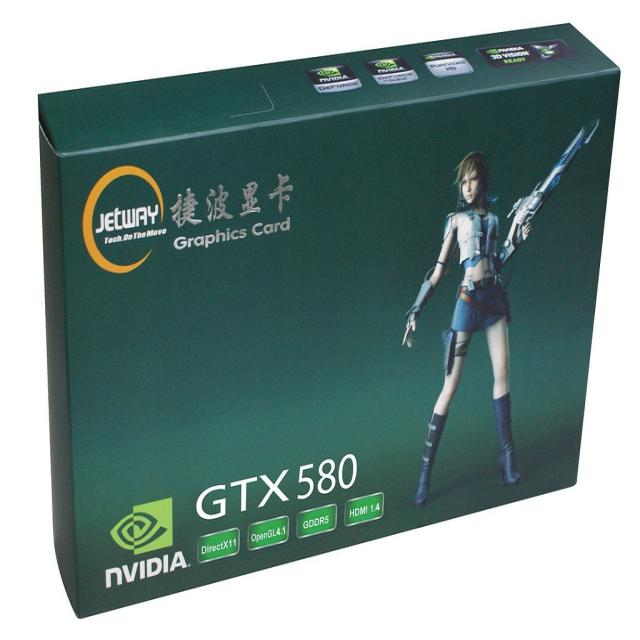nvidia: (110, 499, 175, 556), (318, 66, 342, 80), (375, 58, 398, 70)
